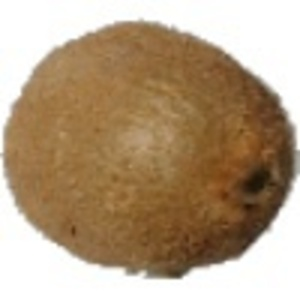kiwi: (1, 19, 300, 281)
